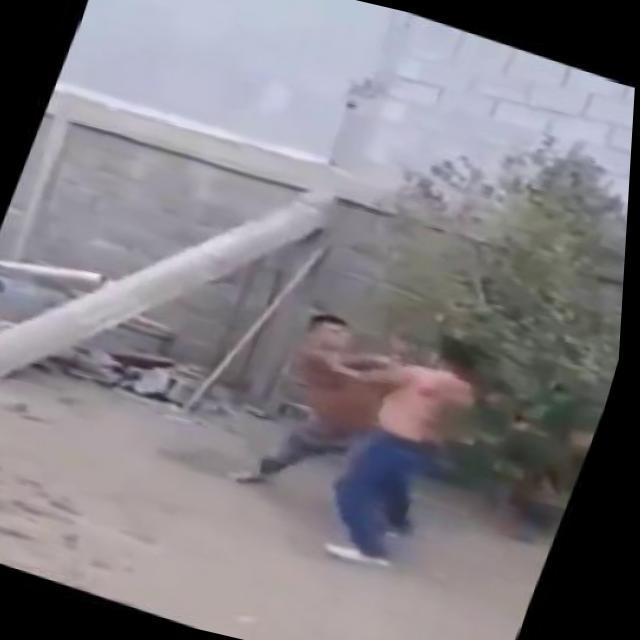fight: (228, 290, 501, 580)
